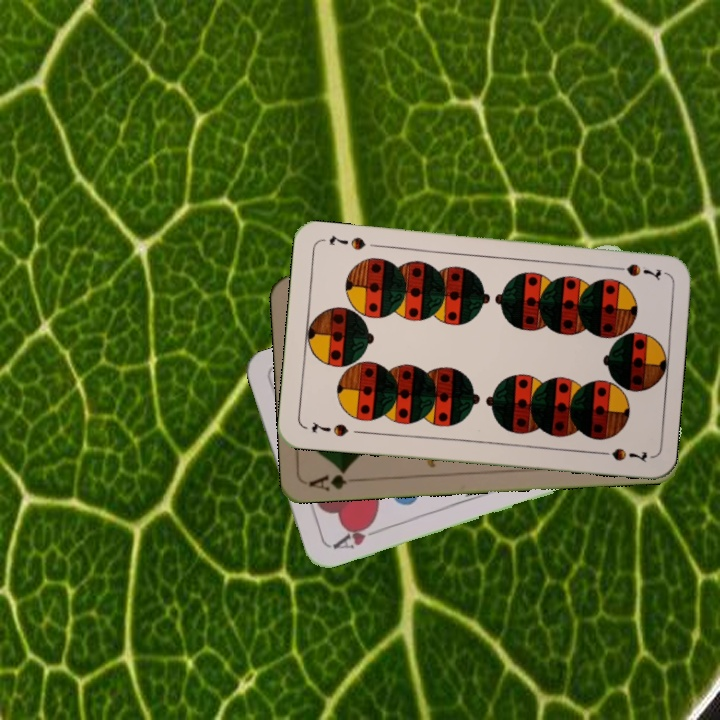GA: (305, 465, 364, 493)
HA: (325, 517, 383, 552)
S7: (607, 259, 664, 283), (307, 417, 351, 440)
